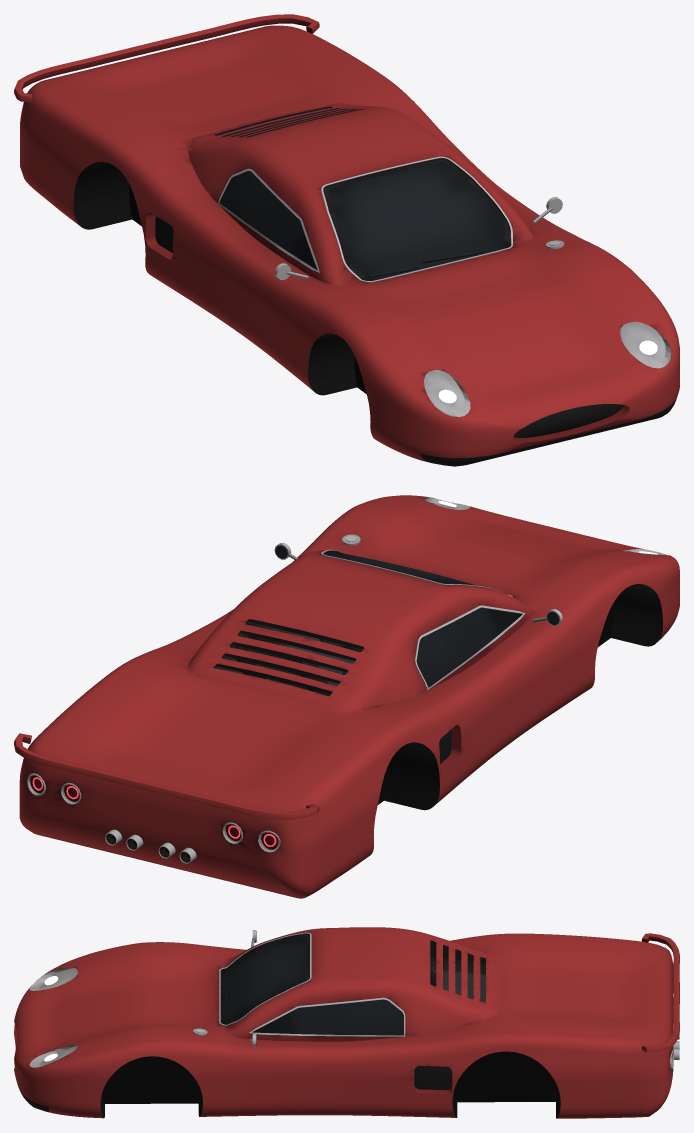
The model's file is enduro.m.glb.
The picture shows the model from 3 angles, top to bottom: view 1: azimuth 30°, elevation 25°; view 2: azimuth 150°, elevation 25°; view 3: azimuth 270°, elevation 25°; orthographic projection. The views are drawn at different scales.
Visible parts, largest first — view 1: paint_lodm, window_lodm, trim_lodm, chrome_lodm, grille_lodm; view 2: paint_lodm, trim_lodm, window_lodm, chrome_lodm, interior_lodm, tail_lodm; view 3: paint_lodm, trim_lodm, window_lodm, chrome_lodm, interior_lodm, grille_lodm.
Part boxes in pixels (x1,y1,x2,y2): paint_lodm: (14, 14, 679, 460); window_lodm: (220, 160, 510, 280); trim_lodm: (73, 106, 676, 466); chrome_lodm: (217, 156, 671, 416); grille_lodm: (155, 216, 623, 437); paint_lodm: (14, 495, 679, 898); trim_lodm: (34, 550, 662, 898); window_lodm: (329, 552, 520, 686); chrome_lodm: (27, 497, 667, 863); interior_lodm: (215, 607, 517, 694); tail_lodm: (30, 775, 278, 849); paint_lodm: (14, 927, 679, 1118); trim_lodm: (19, 933, 560, 1118); window_lodm: (221, 936, 403, 1034); chrome_lodm: (29, 930, 679, 1068); interior_lodm: (280, 942, 485, 1017); grille_lodm: (414, 1066, 452, 1090).
Size of what is drawn, in the model's own units: 1.86 by 0.8916 by 4.54.
